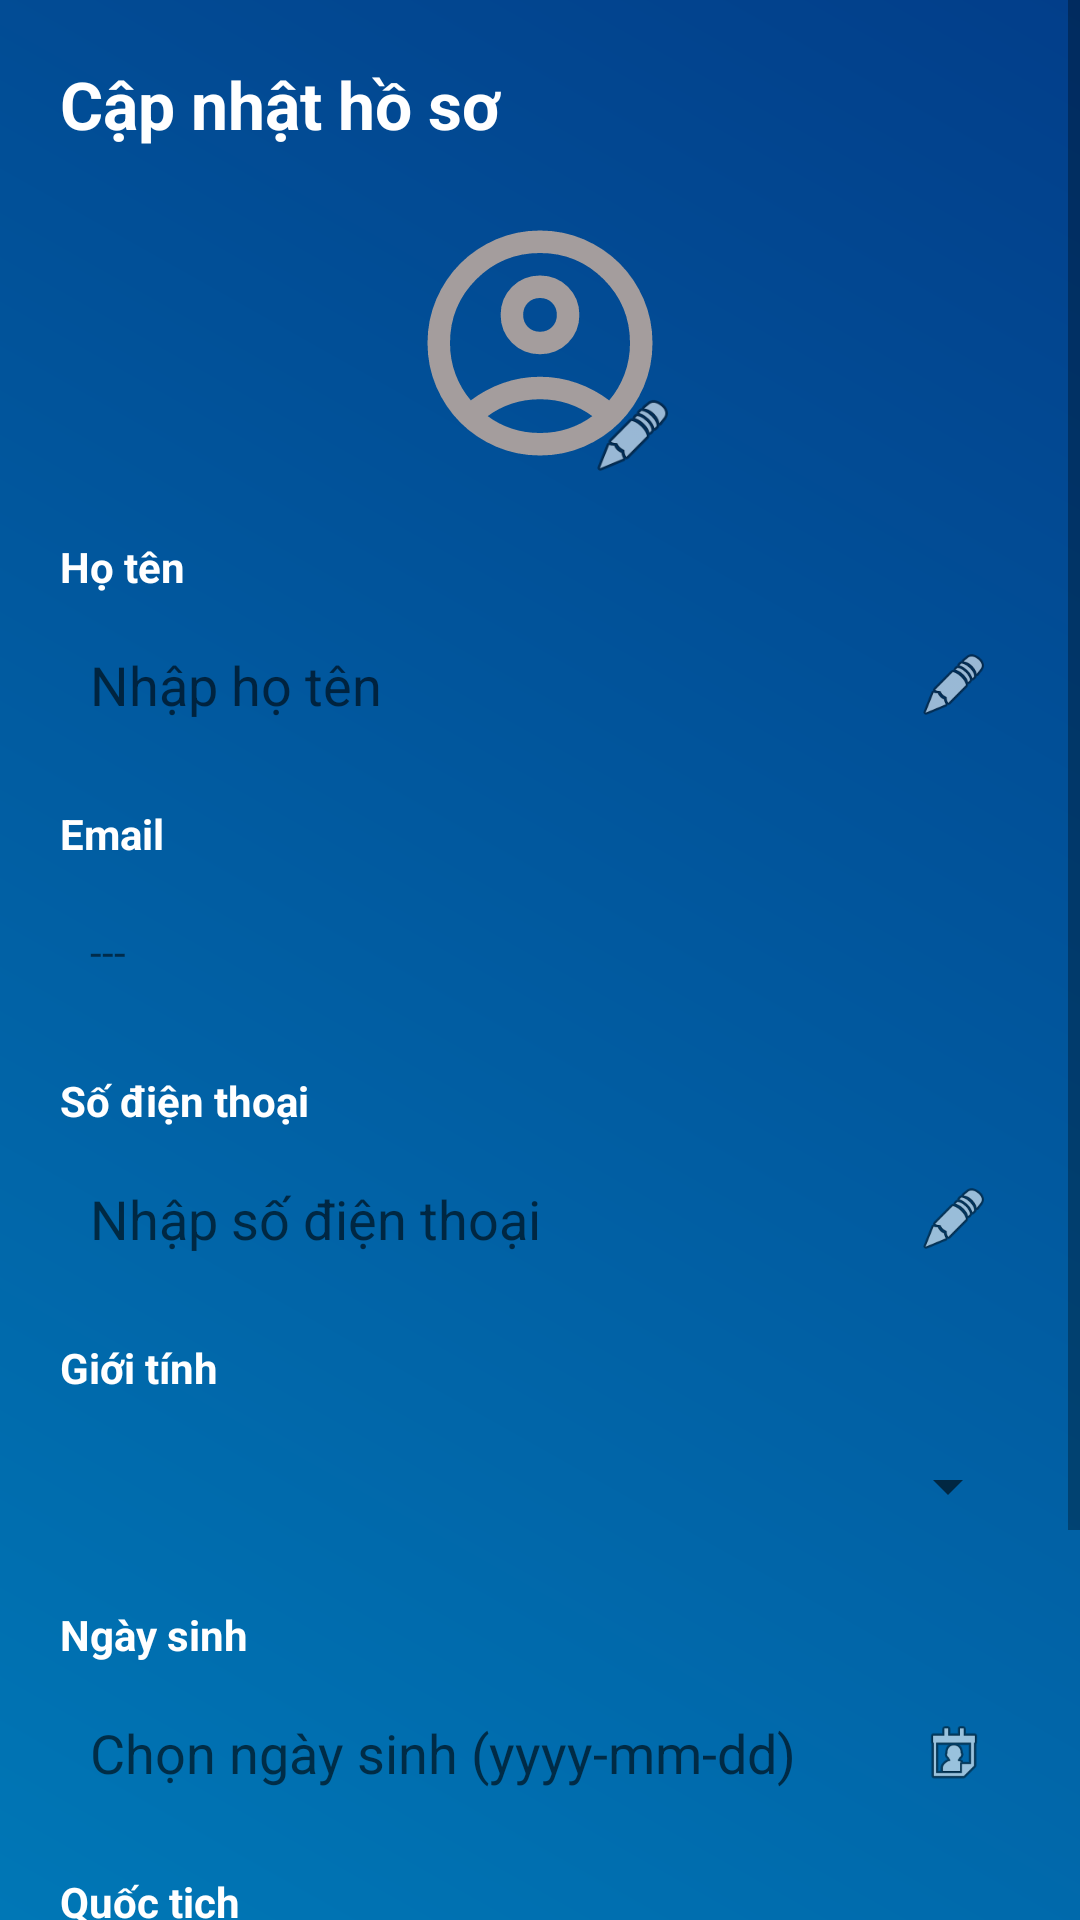

Screen size 1080 × 1920. Icon name, then its box in pixels as detection(x1, y1, x2, y2):
calendar: detection(931, 1726, 977, 1779)
edit: detection(597, 400, 668, 471), detection(923, 654, 984, 715), detection(923, 1188, 984, 1249)
